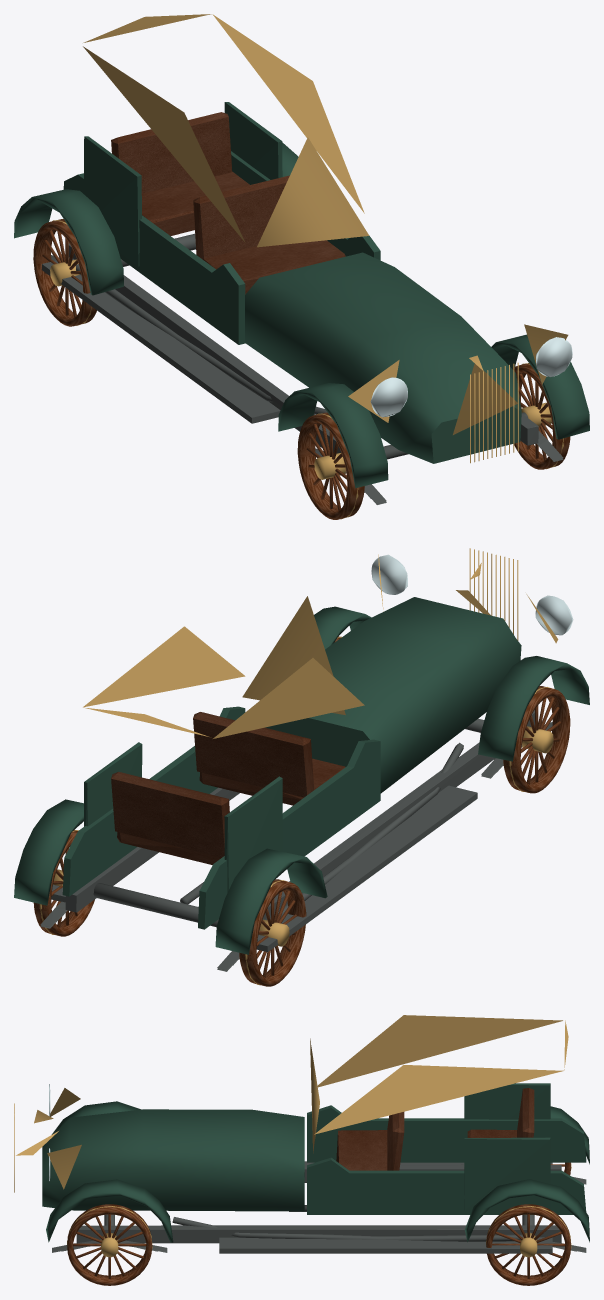
Rendered from Mercedes_37_90_1912_LOD2.fbx.
3 views of the same model, one above another, from view 1: azimuth 30°, elevation 25°; view 2: azimuth 150°, elevation 25°; view 3: azimuth 270°, elevation 25° (orthographic). The views are drawn at different scales.
Visible parts, largest first — view 1: Mercedes_37_90_1912_Body_Root_OPT_Merged_MERCEDES_Paint_Deep, Mercedes_37_90_1912_Body_Root_OPT_Merged_RB_Brass_Aged_OPT_D, Mercedes_37_90_1912_Body_Root_OPT_Merged_RB_Leather_Saddle_O, Mercedes_37_90_1912_Body_Root_OPT_Merged_RB_Steel_Blackened_, Mercedes_37_90_1912_Chassis_Root_OPT_Merged_RB_Steel_Blacken, Mercedes_37_90_1912_Wheel_FL_Spin_OPT_Merged_RB_Wood_Walnut_, Mercedes_37_90_1912_Wheel_RL_Spin_OPT_Merged_RB_Wood_Walnut_, Mercedes_37_90_1912_Body_Root_OPT_Merged_RB_Acetylene_Glass_, Mercedes_37_90_1912_Wheel_FR_Spin_OPT_Merged_RB_Wood_Walnut_; view 2: Mercedes_37_90_1912_Body_Root_OPT_Merged_MERCEDES_Paint_Deep, Mercedes_37_90_1912_Body_Root_OPT_Merged_RB_Leather_Saddle_O, Mercedes_37_90_1912_Body_Root_OPT_Merged_RB_Brass_Aged_OPT_D, Mercedes_37_90_1912_Chassis_Root_OPT_Merged_RB_Steel_Blacken, Mercedes_37_90_1912_Body_Root_OPT_Merged_RB_Steel_Blackened_, Mercedes_37_90_1912_Wheel_FL_Spin_OPT_Merged_RB_Wood_Walnut_, Mercedes_37_90_1912_Wheel_RL_Spin_OPT_Merged_RB_Wood_Walnut_, Mercedes_37_90_1912_Body_Root_OPT_Merged_RB_Acetylene_Glass_, Mercedes_37_90_1912_Wheel_RR_Spin_OPT_Merged_RB_Wood_Walnut_, Mercedes_37_90_1912_Wheel_FL_Spin_OPT_Merged_RB_Brass_Aged_O, Mercedes_37_90_1912_Wheel_RL_Spin_OPT_Merged_RB_Brass_Aged_O; view 3: Mercedes_37_90_1912_Body_Root_OPT_Merged_MERCEDES_Paint_Deep, Mercedes_37_90_1912_Body_Root_OPT_Merged_RB_Brass_Aged_OPT_D, Mercedes_37_90_1912_Chassis_Root_OPT_Merged_RB_Steel_Blacken, Mercedes_37_90_1912_Body_Root_OPT_Merged_RB_Steel_Blackened_, Mercedes_37_90_1912_Body_Root_OPT_Merged_RB_Leather_Saddle_O, Mercedes_37_90_1912_Wheel_FR_Spin_OPT_Merged_RB_Wood_Walnut_, Mercedes_37_90_1912_Wheel_RR_Spin_OPT_Merged_RB_Wood_Walnut_, Mercedes_37_90_1912_Wheel_FR_Spin_OPT_Merged_RB_Brass_Aged_O, Mercedes_37_90_1912_Wheel_RR_Spin_OPT_Merged_RB_Brass_Aged_O.
Boxes of the visible parts, x1,y1,x2,y2 form: Mercedes_37_90_1912_Body_Root_OPT_Merged_MERCEDES_Paint_Deep: [14, 102, 589, 488]; Mercedes_37_90_1912_Body_Root_OPT_Merged_RB_Brass_Aged_OPT_D: [83, 14, 568, 463]; Mercedes_37_90_1912_Body_Root_OPT_Merged_RB_Leather_Saddle_O: [111, 112, 345, 294]; Mercedes_37_90_1912_Body_Root_OPT_Merged_RB_Steel_Blackened_: [41, 257, 327, 423]; Mercedes_37_90_1912_Chassis_Root_OPT_Merged_RB_Steel_Blacken: [51, 233, 563, 504]; Mercedes_37_90_1912_Wheel_FL_Spin_OPT_Merged_RB_Wood_Walnut_: [297, 412, 364, 519]; Mercedes_37_90_1912_Wheel_RL_Spin_OPT_Merged_RB_Wood_Walnut_: [33, 219, 96, 326]; Mercedes_37_90_1912_Body_Root_OPT_Merged_RB_Acetylene_Glass_: [370, 337, 572, 417]; Mercedes_37_90_1912_Wheel_FR_Spin_OPT_Merged_RB_Wood_Walnut_: [512, 363, 570, 469]; Mercedes_37_90_1912_Body_Root_OPT_Merged_MERCEDES_Paint_Deep: [14, 597, 589, 954]; Mercedes_37_90_1912_Body_Root_OPT_Merged_RB_Leather_Saddle_O: [111, 712, 345, 864]; Mercedes_37_90_1912_Body_Root_OPT_Merged_RB_Brass_Aged_OPT_D: [83, 548, 558, 738]; Mercedes_37_90_1912_Chassis_Root_OPT_Merged_RB_Steel_Blacken: [40, 710, 552, 971]; Mercedes_37_90_1912_Body_Root_OPT_Merged_RB_Steel_Blackened_: [51, 742, 477, 952]; Mercedes_37_90_1912_Wheel_FL_Spin_OPT_Merged_RB_Wood_Walnut_: [503, 686, 570, 793]; Mercedes_37_90_1912_Wheel_RL_Spin_OPT_Merged_RB_Wood_Walnut_: [239, 879, 306, 986]; Mercedes_37_90_1912_Body_Root_OPT_Merged_RB_Acetylene_Glass_: [371, 554, 573, 635]; Mercedes_37_90_1912_Wheel_RR_Spin_OPT_Merged_RB_Wood_Walnut_: [33, 829, 94, 936]; Mercedes_37_90_1912_Wheel_FL_Spin_OPT_Merged_RB_Brass_Aged_O: [509, 687, 553, 791]; Mercedes_37_90_1912_Wheel_RL_Spin_OPT_Merged_RB_Brass_Aged_O: [245, 880, 289, 985]; Mercedes_37_90_1912_Body_Root_OPT_Merged_MERCEDES_Paint_Deep: [42, 1083, 589, 1242]; Mercedes_37_90_1912_Body_Root_OPT_Merged_RB_Brass_Aged_OPT_D: [14, 1015, 568, 1192]; Mercedes_37_90_1912_Chassis_Root_OPT_Merged_RB_Steel_Blacken: [52, 1165, 586, 1252]; Mercedes_37_90_1912_Body_Root_OPT_Merged_RB_Steel_Blackened_: [172, 1161, 552, 1253]; Mercedes_37_90_1912_Body_Root_OPT_Merged_RB_Leather_Saddle_O: [336, 1088, 534, 1170]; Mercedes_37_90_1912_Wheel_FR_Spin_OPT_Merged_RB_Wood_Walnut_: [67, 1204, 152, 1285]; Mercedes_37_90_1912_Wheel_RR_Spin_OPT_Merged_RB_Wood_Walnut_: [486, 1204, 570, 1285]; Mercedes_37_90_1912_Wheel_FR_Spin_OPT_Merged_RB_Brass_Aged_O: [67, 1206, 152, 1257]; Mercedes_37_90_1912_Wheel_RR_Spin_OPT_Merged_RB_Brass_Aged_O: [486, 1206, 571, 1257].
Size of what is drawn, in the model's own units: 177 by 188 by 474.
6 materials, 2 textured.
